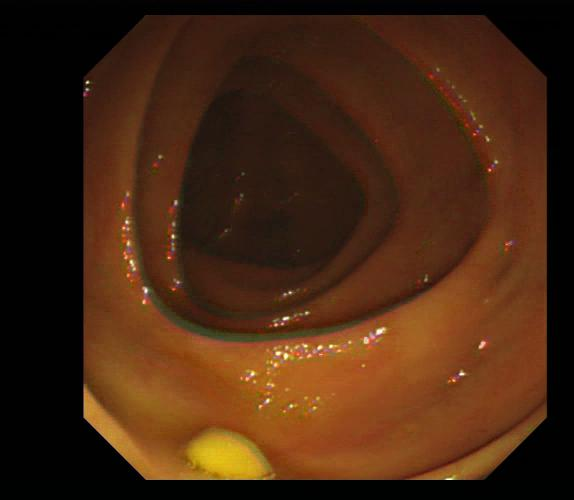polyp: (185, 429, 282, 478)
